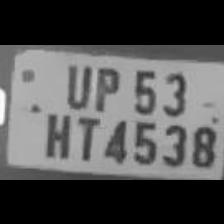3: (158, 65, 190, 112), (158, 118, 188, 166)
4: (100, 114, 128, 162)
5: (126, 114, 158, 164), (127, 64, 159, 112)
8: (188, 120, 218, 168)
H: (40, 107, 70, 159)
P: (91, 62, 123, 112)
T: (72, 110, 100, 160)
U: (60, 57, 92, 106)
